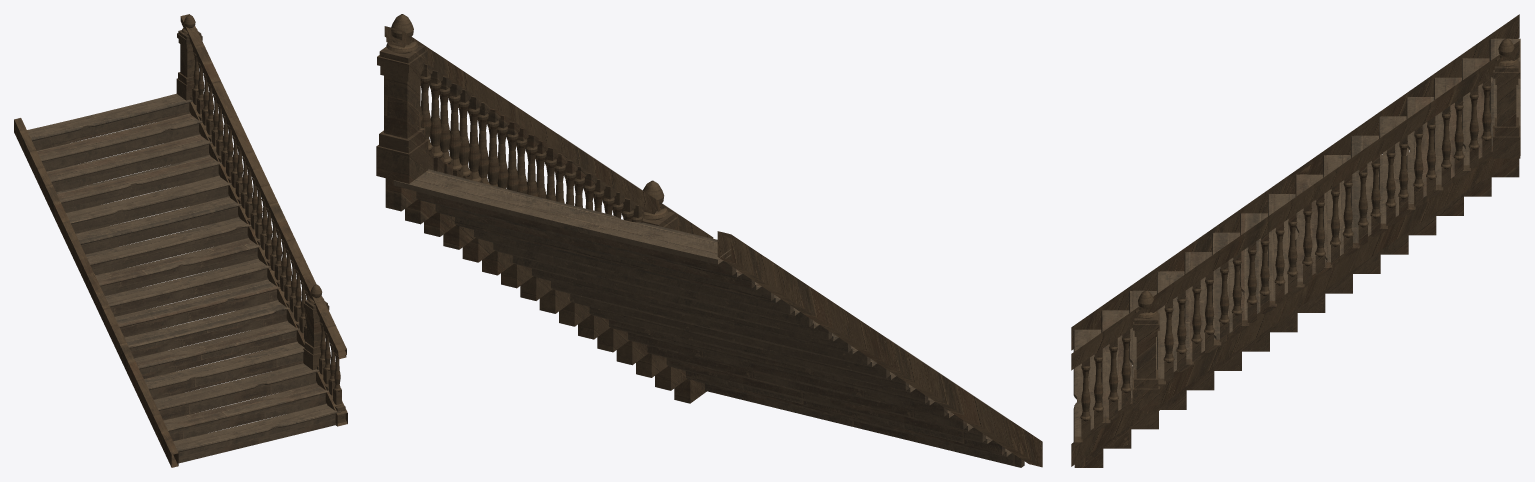
File: worn_oak_flight.glb
3 views of the same model, side by side, from view 1: azimuth 30°, elevation 25°; view 2: azimuth 150°, elevation 25°; view 3: azimuth 270°, elevation 25° (orthographic). The views are drawn at different scales.
Size of the model in its own units: 3.02 by 4.82 by 4.6.
3 materials, 3 textured.
